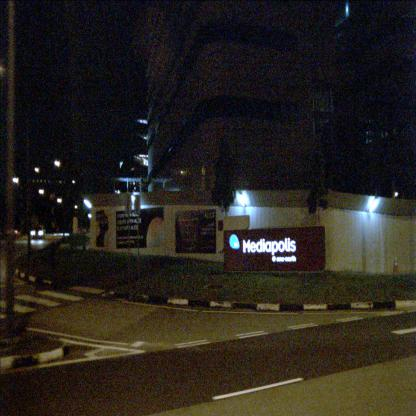cone: (392, 255, 400, 274)
